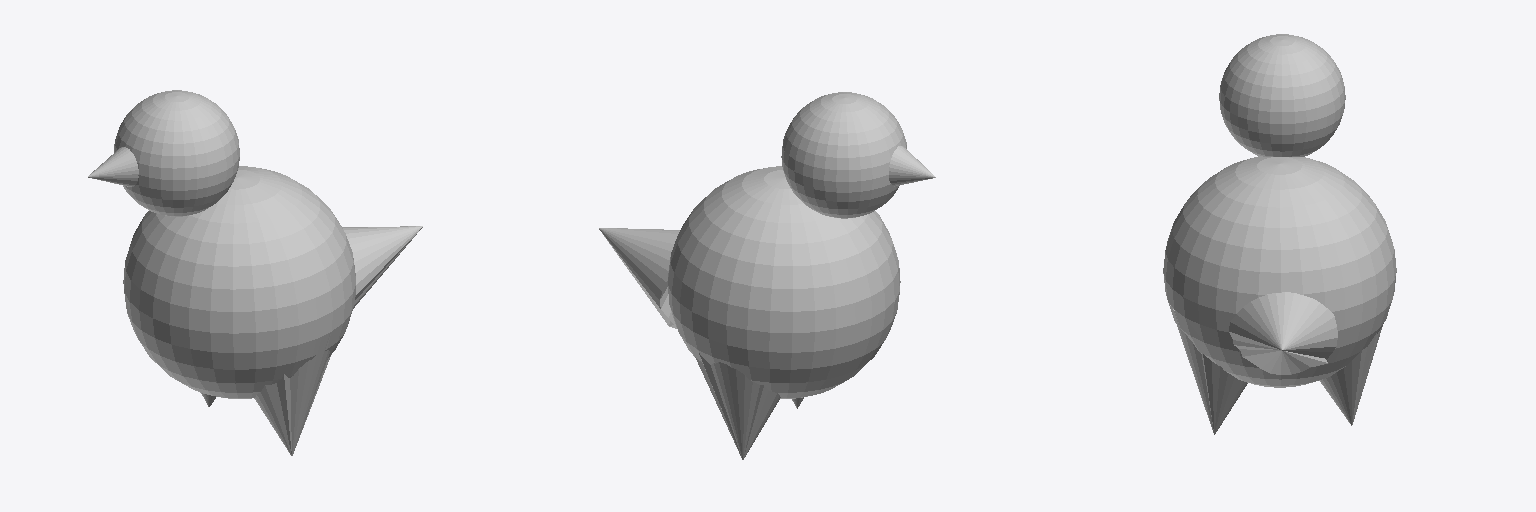
Rendered from Chicken-4.obj.
3 views of the same model, side by side, from view 1: azimuth 30°, elevation 25°; view 2: azimuth 150°, elevation 25°; view 3: azimuth 270°, elevation 25° (orthographic).
Visible parts, largest first — view 1: Sphere.027, Sphere.029, Cone.034, Cone.035, Cone.033; view 2: Sphere.027, Sphere.029, Cone.000_Cone.010, Cone.035, Cone.033; view 3: Sphere.027, Sphere.029, Cone.035, Cone.034, Cone.000_Cone.010.
Part boxes in pixels (x1,y1,x2,y2): Sphere.027: (123, 166, 355, 398); Sphere.029: (114, 90, 239, 216); Cone.034: (254, 333, 331, 455); Cone.035: (342, 226, 422, 308); Cone.033: (88, 147, 138, 186); Sphere.027: (668, 166, 900, 398); Sphere.029: (781, 92, 906, 218); Cone.000_Cone.010: (695, 353, 780, 459); Cone.035: (599, 228, 679, 328); Cone.033: (889, 146, 935, 186); Sphere.027: (1163, 156, 1396, 387); Sphere.029: (1219, 34, 1345, 156); Cone.035: (1229, 292, 1337, 374); Cone.034: (1170, 305, 1247, 434); Cone.000_Cone.010: (1319, 312, 1382, 425).
Bounding box in the file's own units: 4.08 × 4.11 × 2.45.